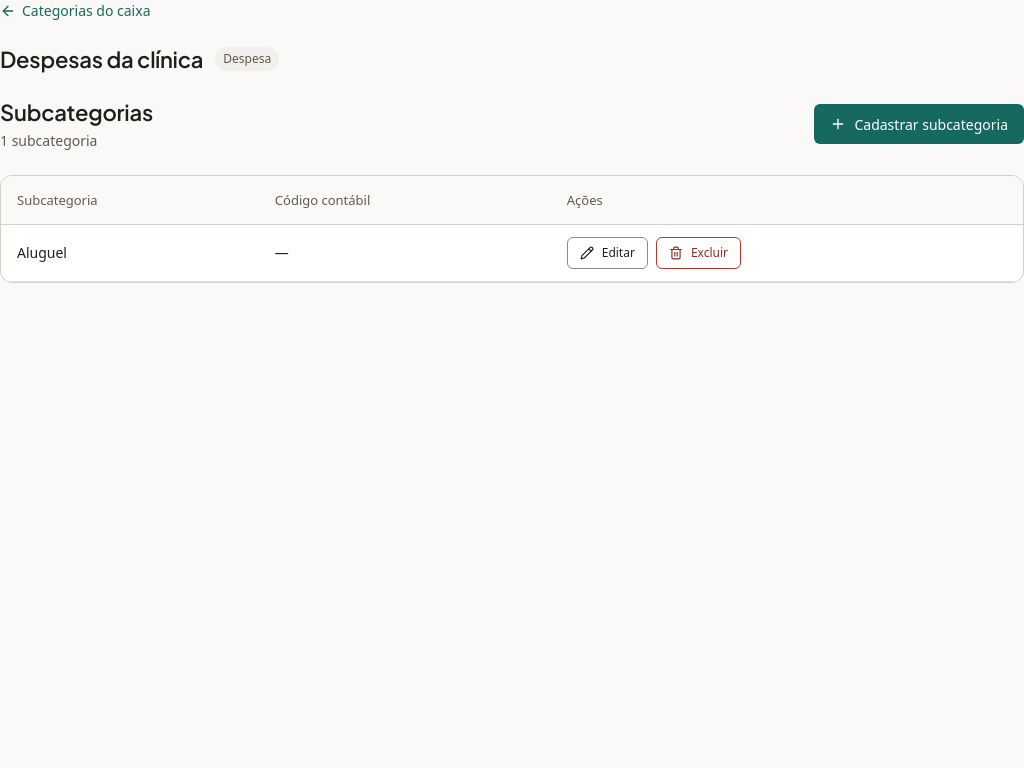
Test: Página da categoria — criar subcategoria usa a rota ANINHADA › deve enviar o POST para dentro da categoria da rota
Expected: the text "Aluguel" is shown, [1,225,259,281]
Click the button "Cadastrar subcategoria". click: (919, 124)
box: [814,104,1023,144]
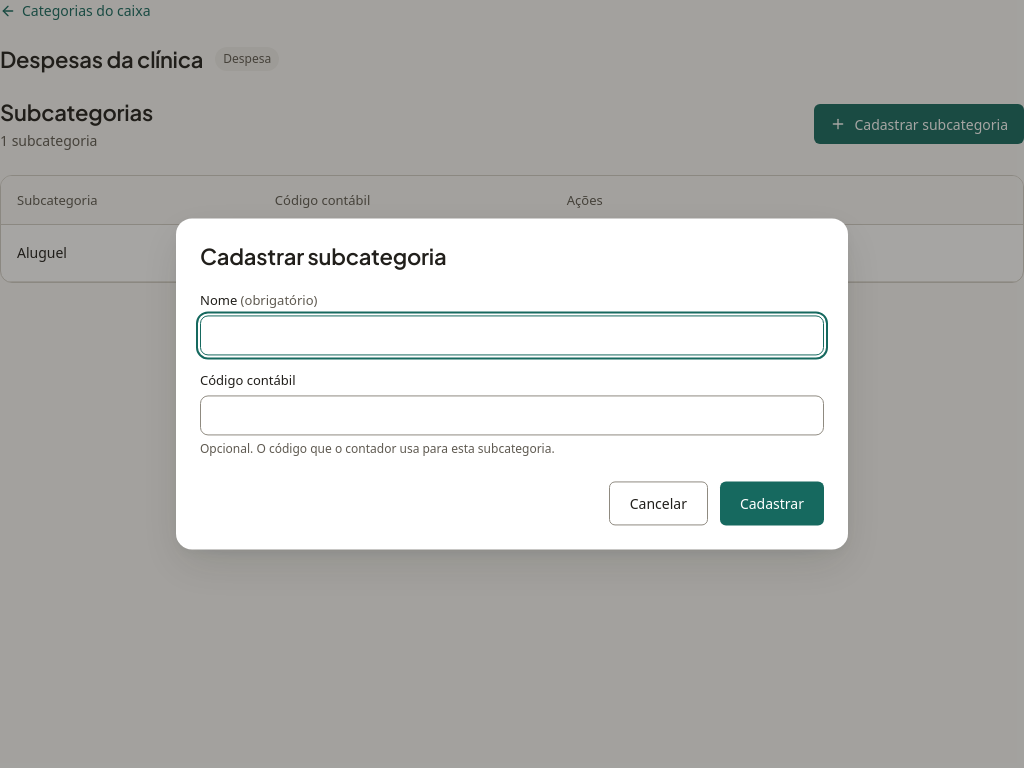
Type "Água e luz" into the field labelled "Nome (obrigatório)". click: (512, 335)
box: [200,315,824,355]
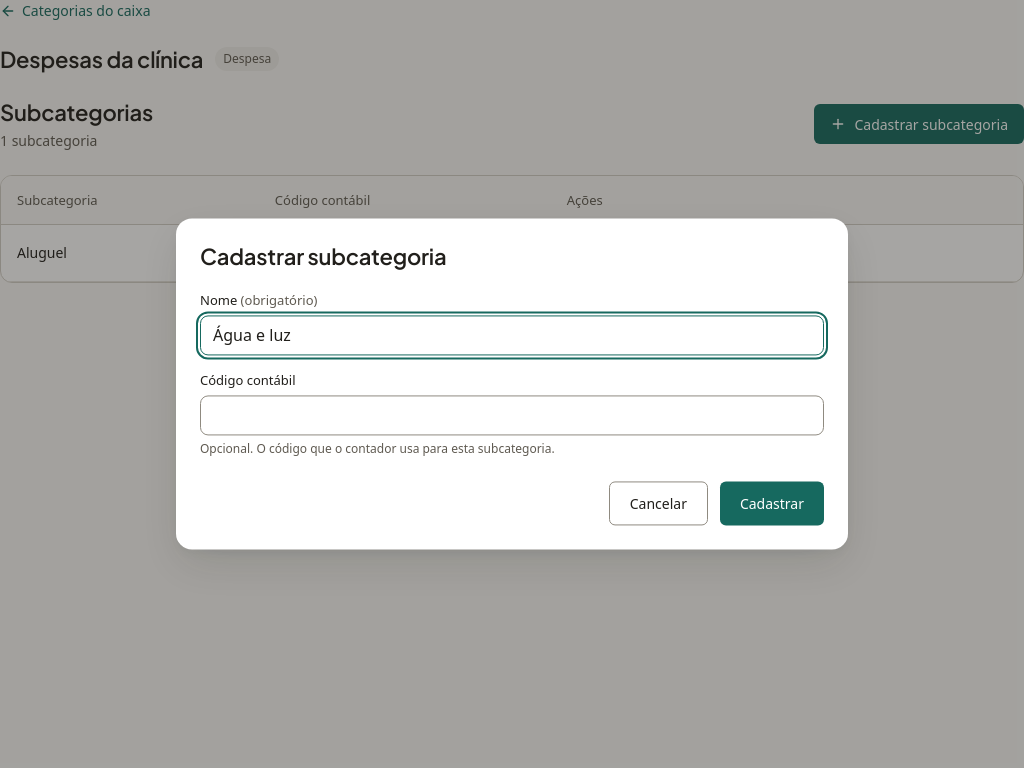
Click the button "Cadastrar". click: (772, 504)
box: [720,482,824,526]
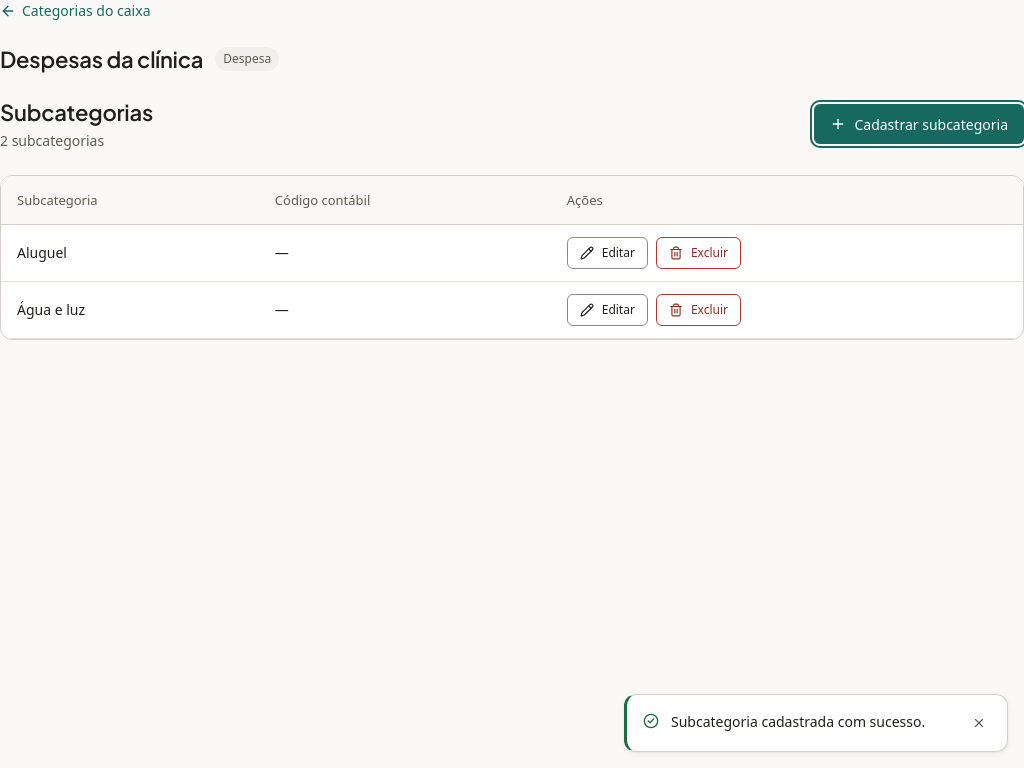
Result: the text "Água e luz" is shown at [1,281,259,338]
